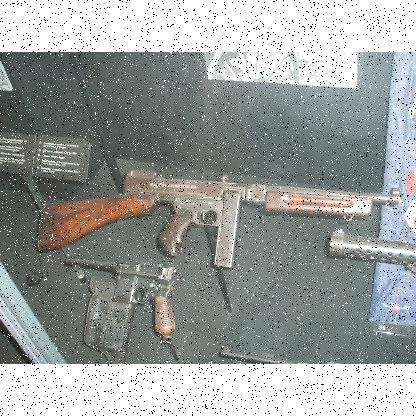gun: (37, 169, 398, 265)
